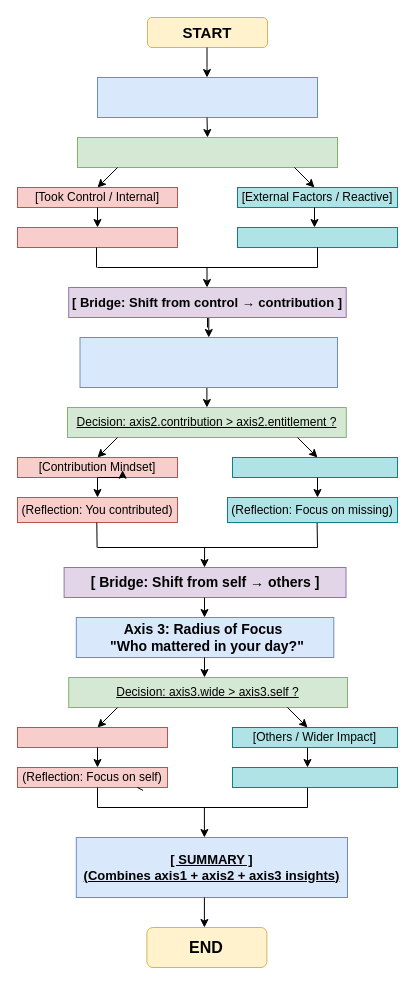
This 415x985 diagram has some shape labels left out. Here are the shapes that lost their labels. From the top down, the centre of each, then its label:
the point at 207,97: Axis 1: Locus of Control "How did you handle your day?"
the point at 207,152: Decision: axis1.internal > axis1.external ?
the point at 97,237: (Reflection: You took charge)
the point at 317,237: (Reflection: Felt less control)
the point at 208,362: Axis 2: Contribution vs Entitlement "What did you give today?"
the point at 315,467: [Entitlement Mindset]
the point at 92,737: [Self Focused]
the point at 315,777: (Reflection: Broader thinking)
